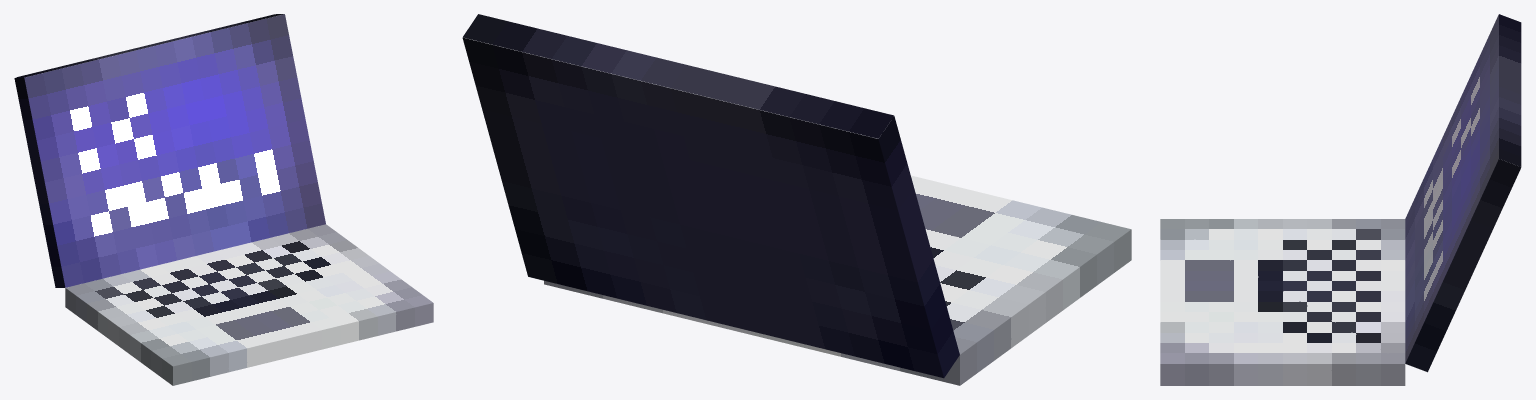
Rendered from laptop-transformed.glb.
3 views of the same model, side by side, from view 1: azimuth 30°, elevation 25°; view 2: azimuth 150°, elevation 25°; view 3: azimuth 270°, elevation 25° (orthographic). The views are drawn at different scales.
Visible parts, largest first — view 1: Object_4, Object_8, Object_5; view 2: Object_5, Object_8; view 3: Object_8, Object_4, Object_5.
Boxes of the visible parts, x1=… form: Object_4: x1=24, y1=14, x2=325, y2=287; Object_8: x1=65, y1=224, x2=433, y2=385; Object_5: x1=14, y1=14, x2=283, y2=287; Object_5: x1=462, y1=14, x2=959, y2=378; Object_8: x1=544, y1=175, x2=1131, y2=385; Object_8: x1=1160, y1=219, x2=1405, y2=385; Object_4: x1=1405, y1=14, x2=1498, y2=362; Object_5: x1=1405, y1=14, x2=1521, y2=372.
Bounding box in the file's own units: 0.875 × 0.6402 × 0.922.
4 materials, 4 textured.
